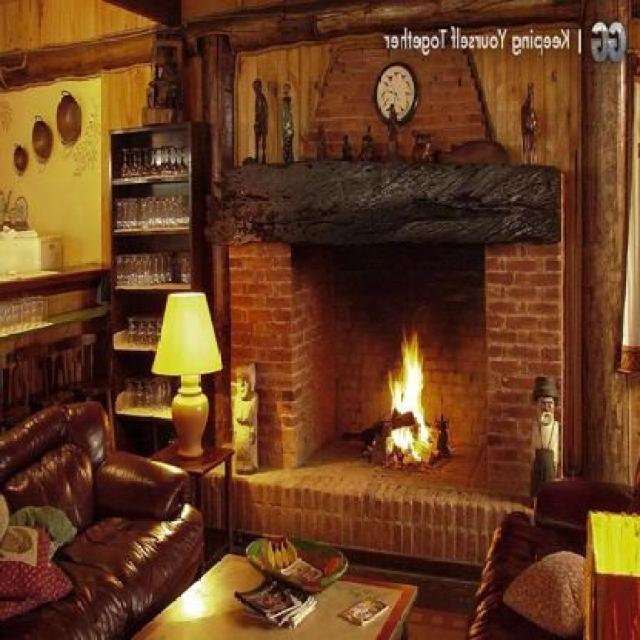Fire: (386, 329, 434, 474)
